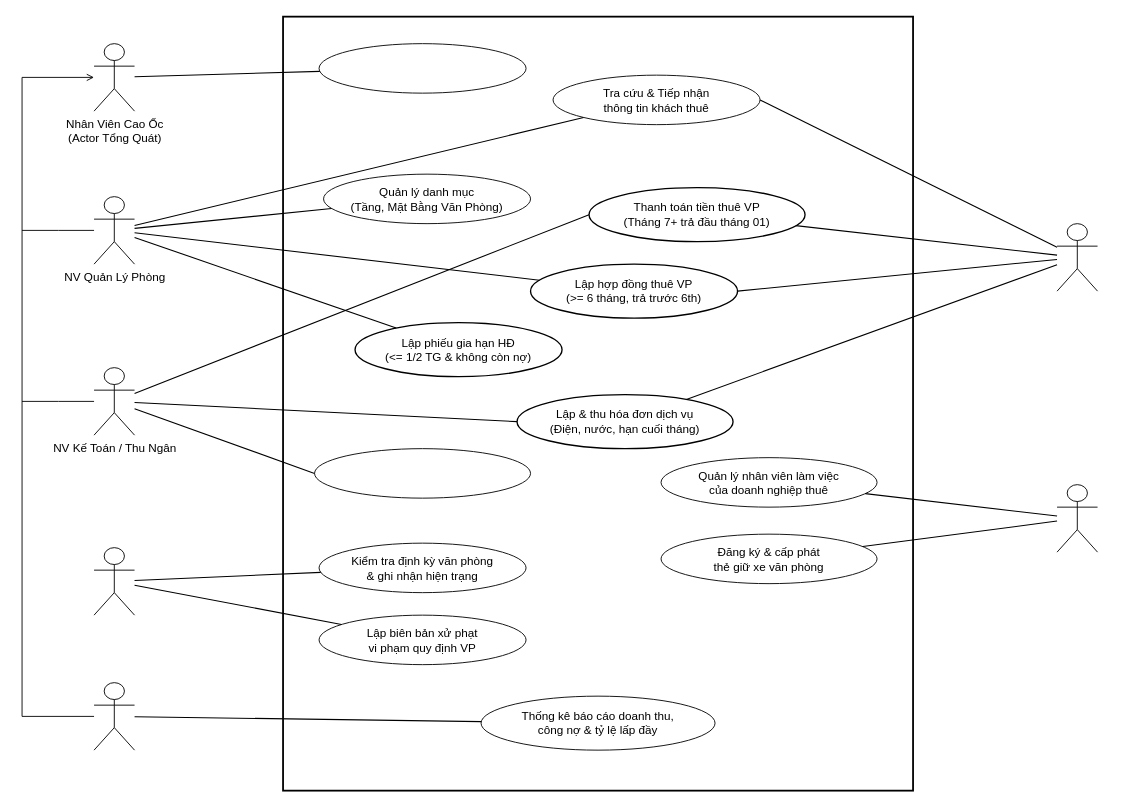
Some shapes in this 1146 by 806 pixel diagram are drawn without their labels. The shapes that lost their labels are listed below. From the top down, each one's box as (x1, y1, x2, y2) in pixels, then its label:
(318, 43, 526, 93): Đăng nhập & Phân quyền hệ thống
(1056, 223, 1098, 291): Khách Hàng Thuê (Doanh Nghiệp)
(282, 15, 914, 791): HỆ THỐNG QUẢN LÝ CHO THUÊ VĂN PHÒNG CAO ỐC
(314, 448, 531, 498): Cảnh báo công nợ & xử lý quá hạn thanh toán
(1056, 484, 1098, 552): Nhân Viên Làm Việc Tại Văn Phòng
(93, 547, 135, 615): NV Kỹ Thuật / Bảo Trì
(93, 682, 135, 750): Ban Quản Lý Cao Ốc
